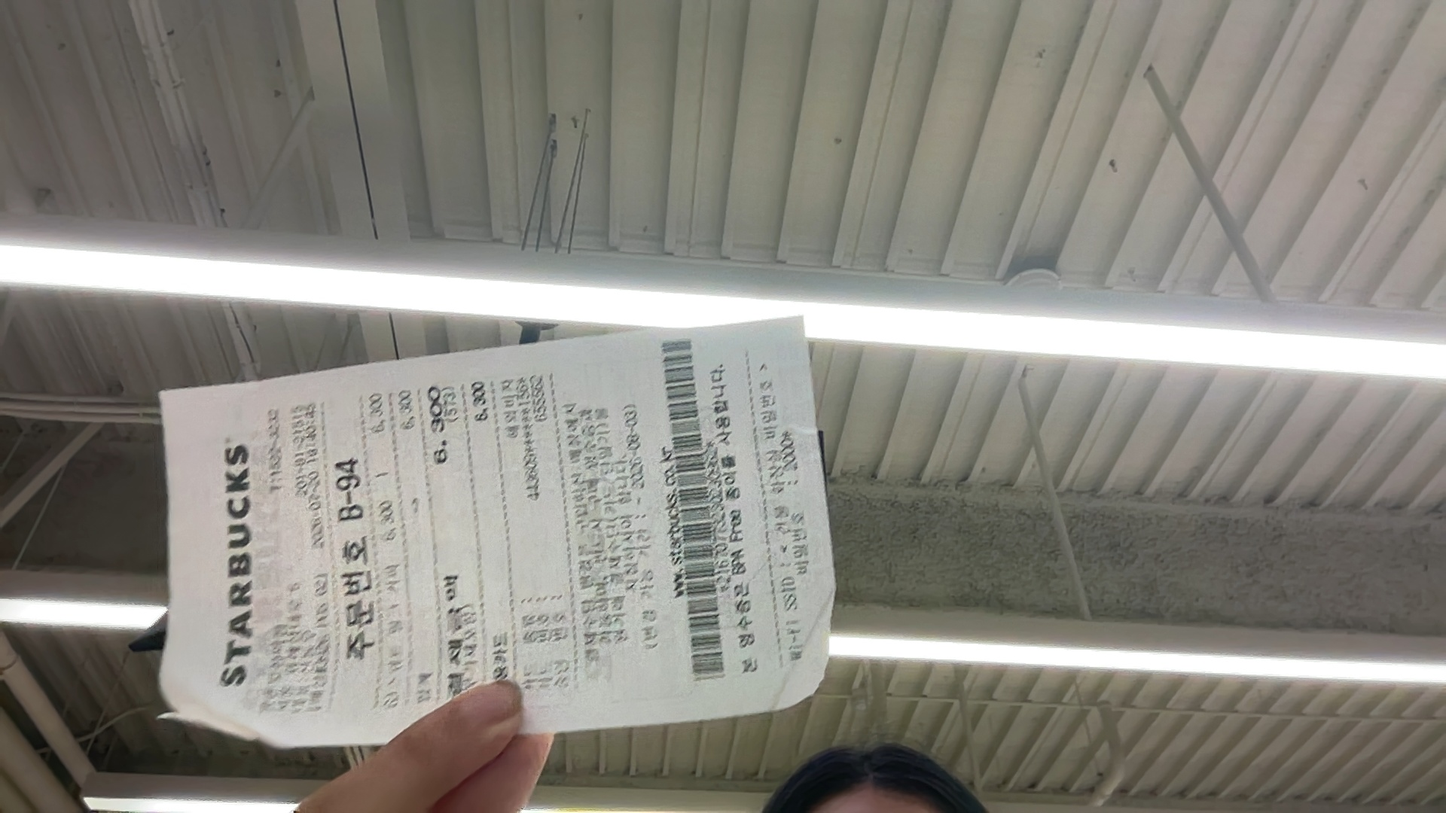Paper: (0, 290, 911, 782)
